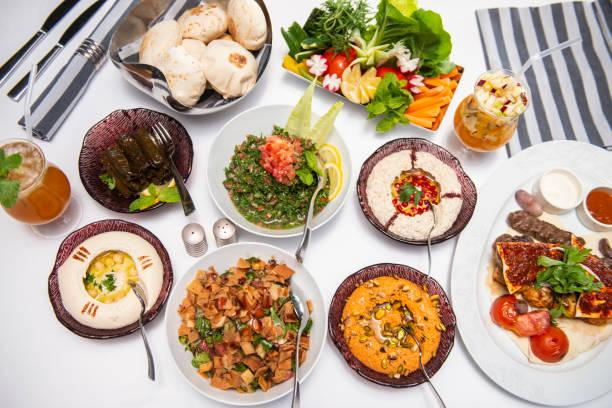Braised Crucian Carp: (445, 141, 609, 404), (164, 241, 325, 405), (285, 1, 462, 131), (206, 103, 346, 237), (112, 0, 269, 115), (332, 263, 456, 389), (49, 219, 172, 339), (78, 107, 192, 213), (356, 139, 477, 238)
